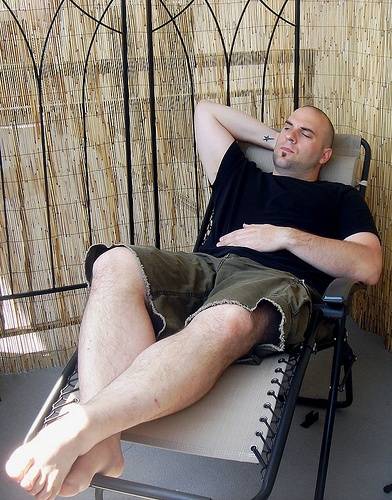head: (273, 105, 336, 172)
person: (9, 71, 377, 486)
